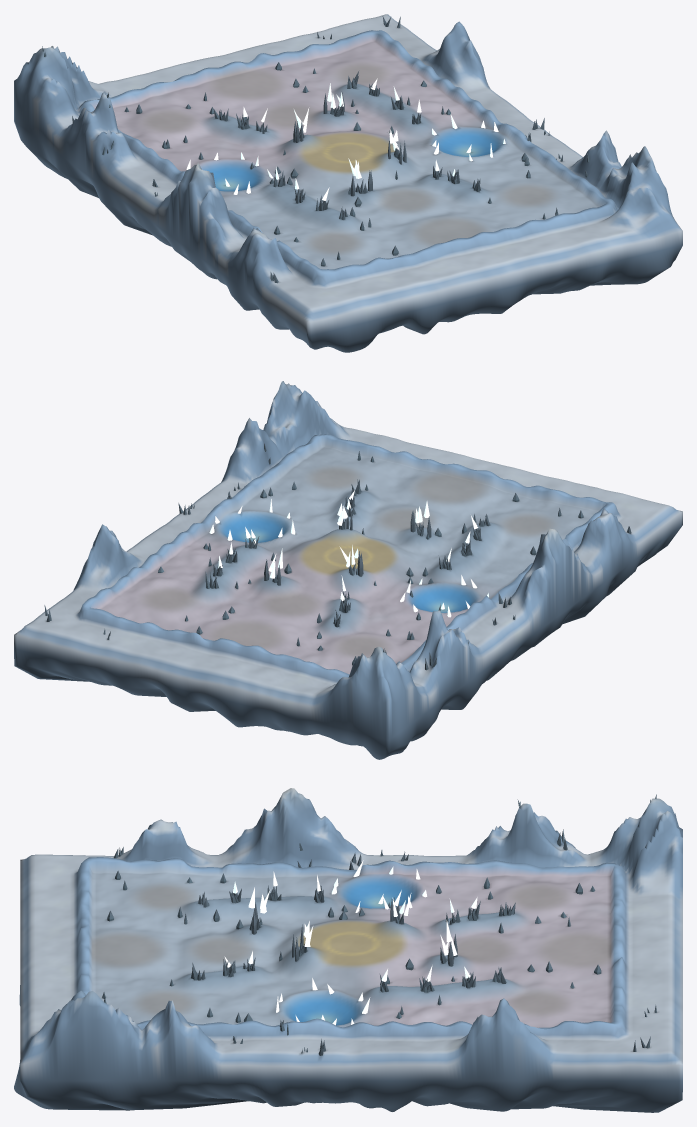
File: battlefield.glb
3 renders of one model, top to bottom at view 1: azimuth 30°, elevation 25°; view 2: azimuth 150°, elevation 25°; view 3: azimuth 270°, elevation 25°, orthographic. The views are drawn at different scales.
Visible parts, largest first — view 1: Island, Rocks, Crystals; view 2: Island, Rocks, Crystals; view 3: Island, Rocks, Crystals.
Boxes of the visible parts, box(x1,y1,x2,y2) form: Island: box(14, 14, 682, 352); Rocks: box(42, 16, 589, 283); Crystals: box(186, 78, 505, 200); Island: box(14, 381, 682, 759); Rocks: box(44, 443, 631, 670); Crystals: box(209, 490, 488, 617); Island: box(14, 788, 682, 1112); Rocks: box(102, 794, 656, 1055); Crystals: box(224, 860, 477, 1025).
Size of the model in its own units: 12.85 by 6.06 by 17.54.
